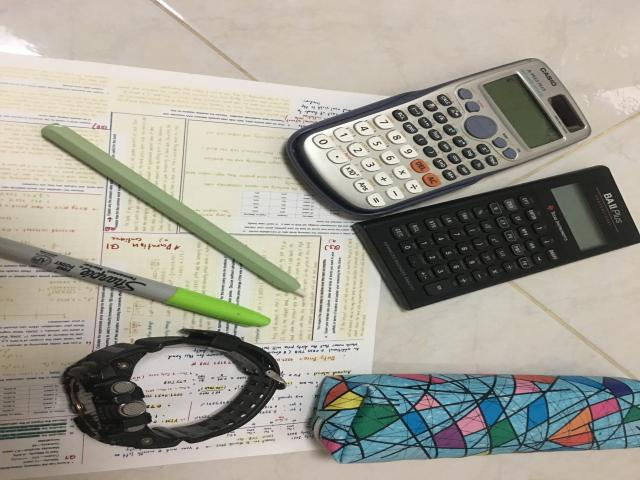Pen: (0, 238, 270, 326)
Watch: (62, 329, 285, 449)
paper: (0, 53, 382, 480)
